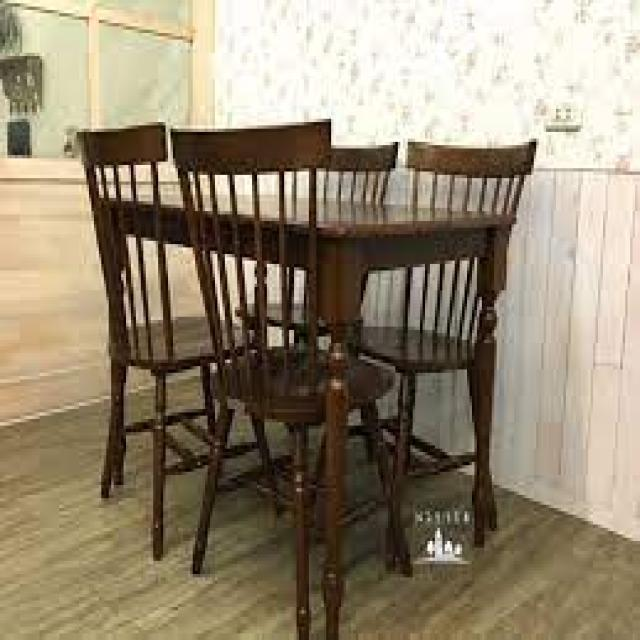table: (71, 99, 554, 639)
